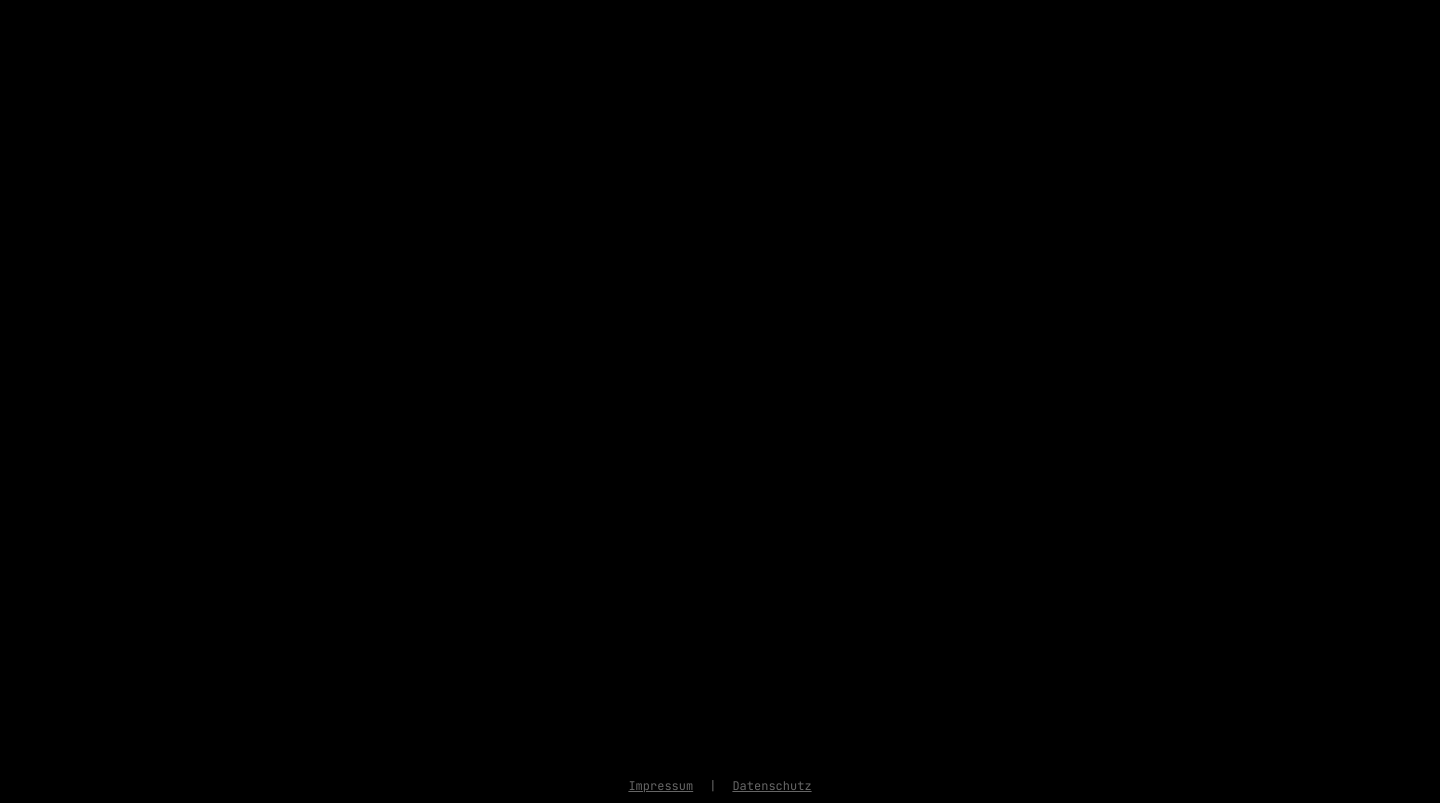
Test: App — central back-navigation wiring › 4. Leaving a run → main menu PRESERVES the persisted GameState byte-for-byte
Press Enter
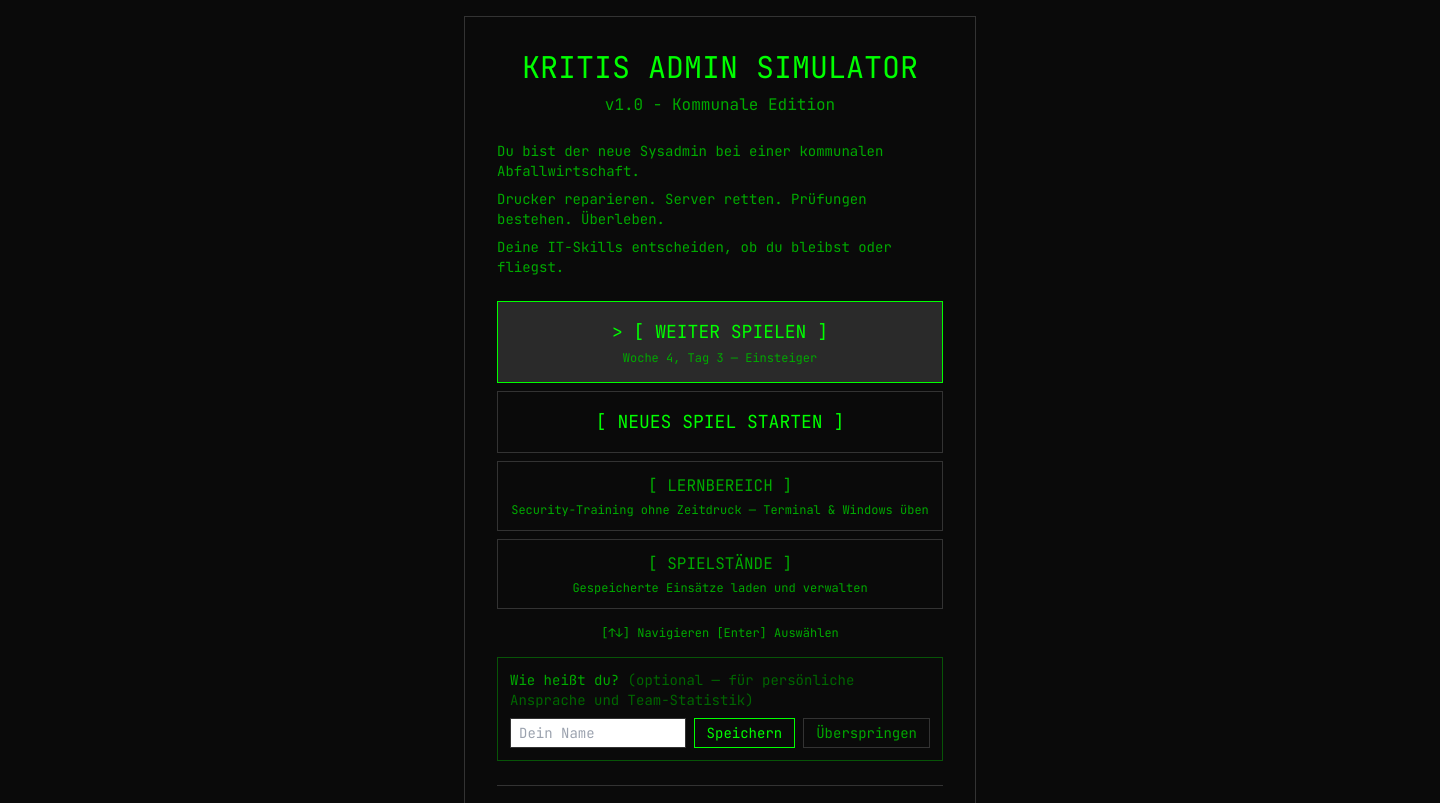
Click the button "> [ WEITER SPIELEN ] Woche 4, Tag 3 — Einsteiger": (720, 342) [497,301,943,383]
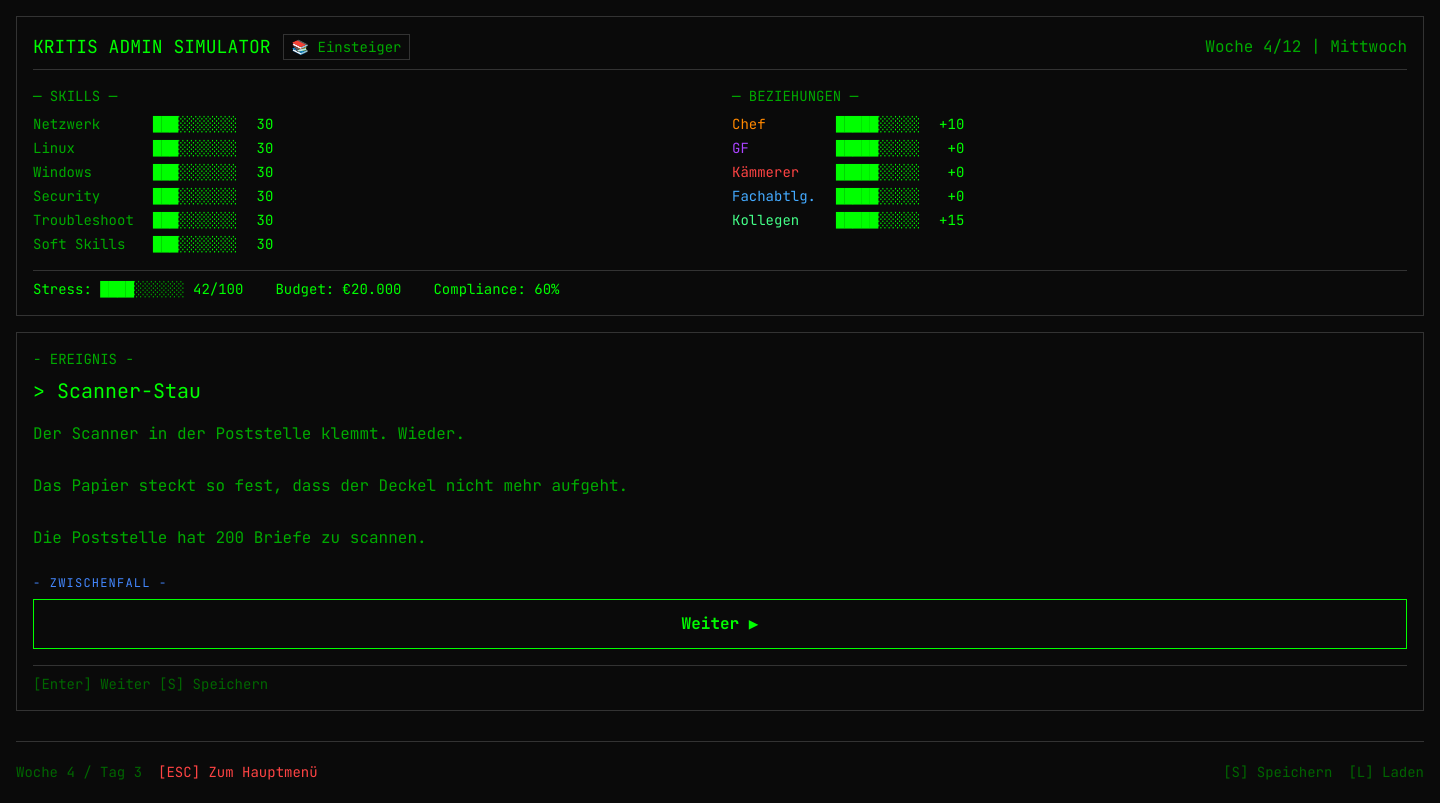
Expected: the button "[ESC] Zum Hauptmenü" is shown, [158,750,318,794]
Press Escape
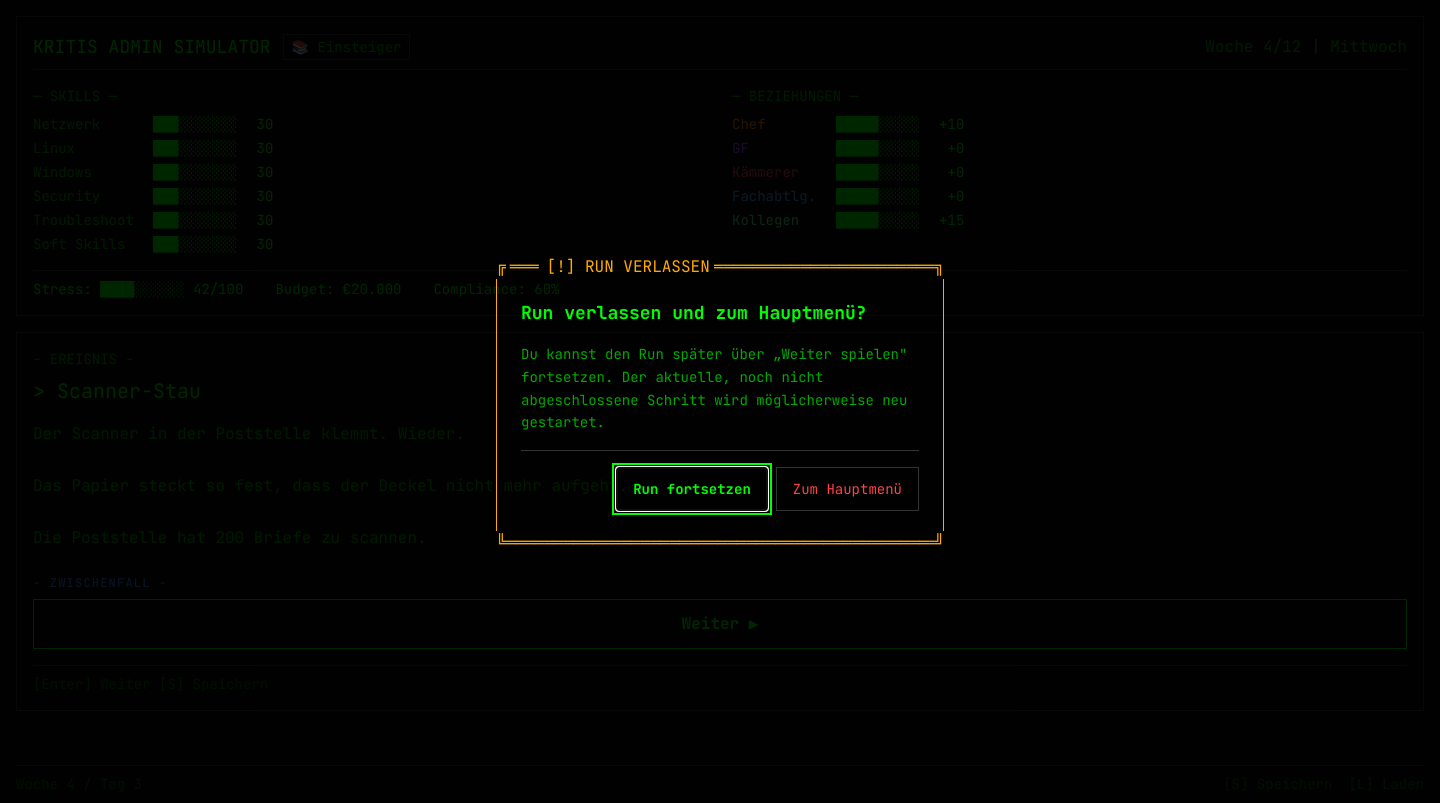
Expected: the heading "Run verlassen und zum Hauptmenü?" is shown, [521,299,919,327]
Click the button "Zum Hauptmenü": (847, 489) [776,467,919,511]
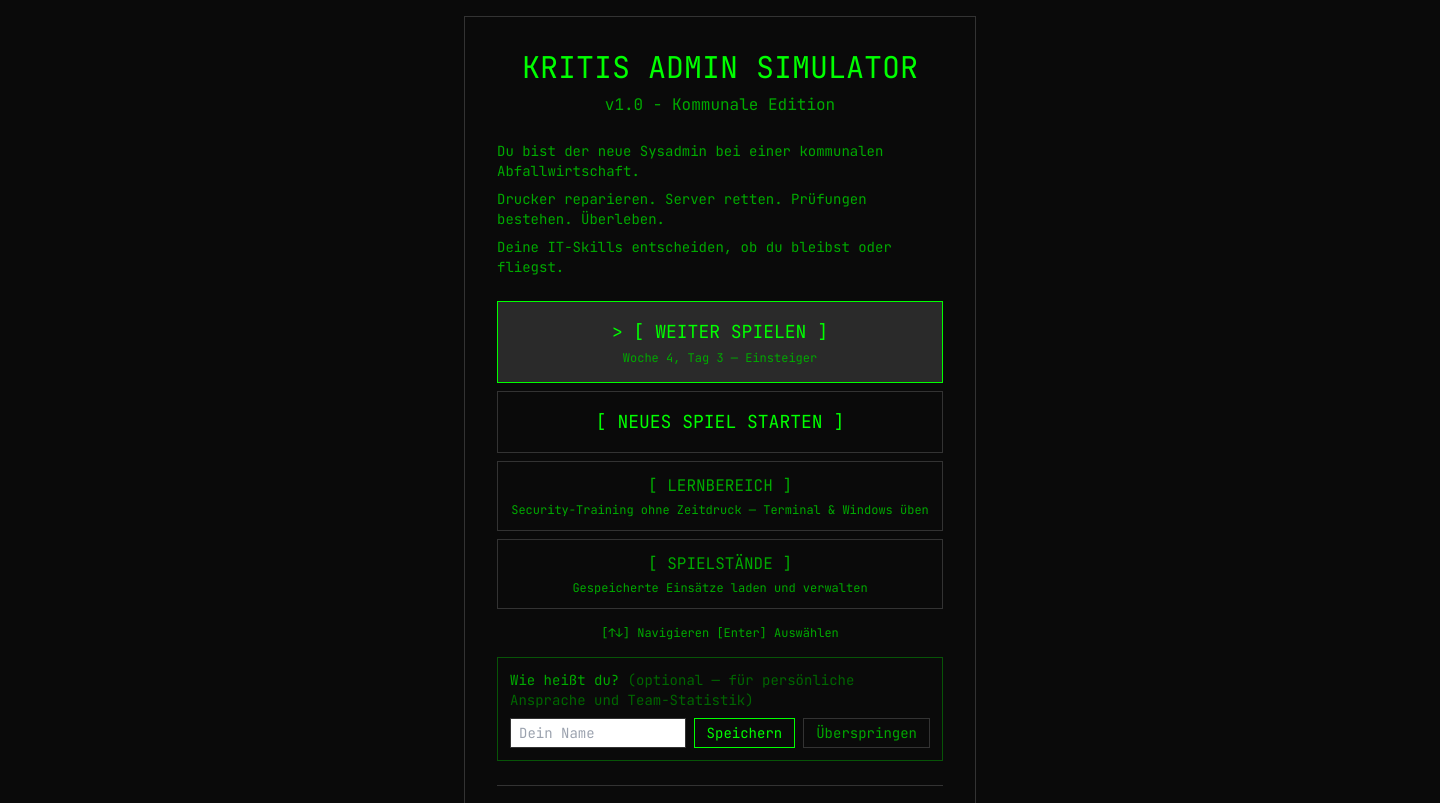
Expected: the button "[ NEUES SPIEL STARTEN ]" is shown, [497,391,943,453]
